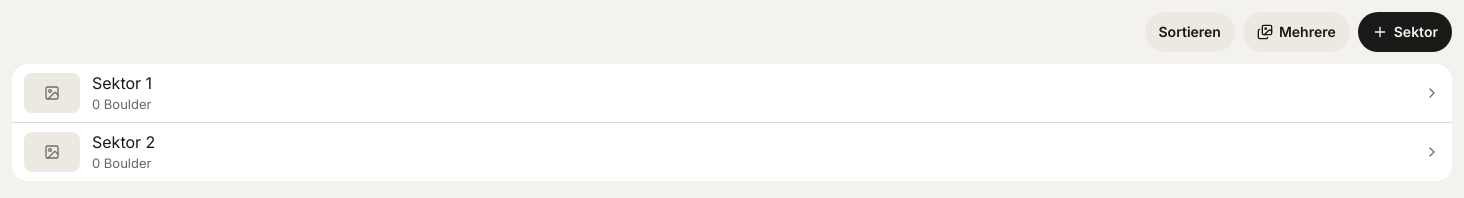
AC-4/5/6 Sektoren › Sortier-Pfeile erscheinen nur im Sortier-Modus
The width and height of the screenshot is (1464, 198).
Click the button with test id "toggle-reorder-mode-btn" at (1190, 32), box [1144,12,1235,52]
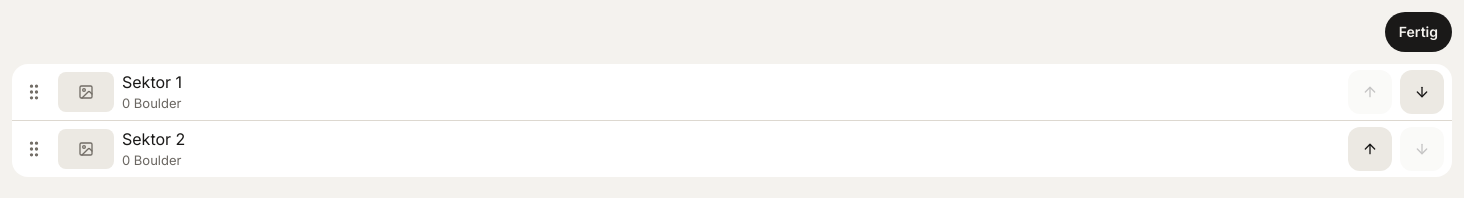
Now the button with test id "toggle-reorder-mode-btn" reads "Fertig", box [1385,12,1452,52]
Now the button with test id "move-down-s-1" is shown, box [1400,70,1444,114]
